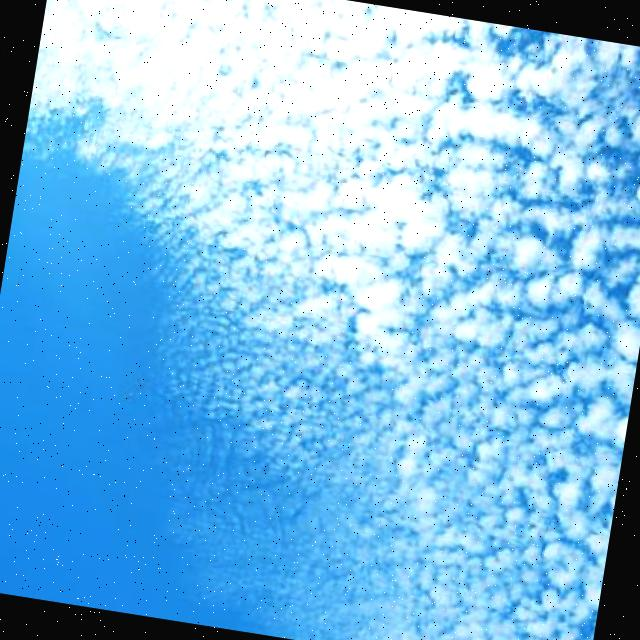Cc: (1, 1, 640, 604)
